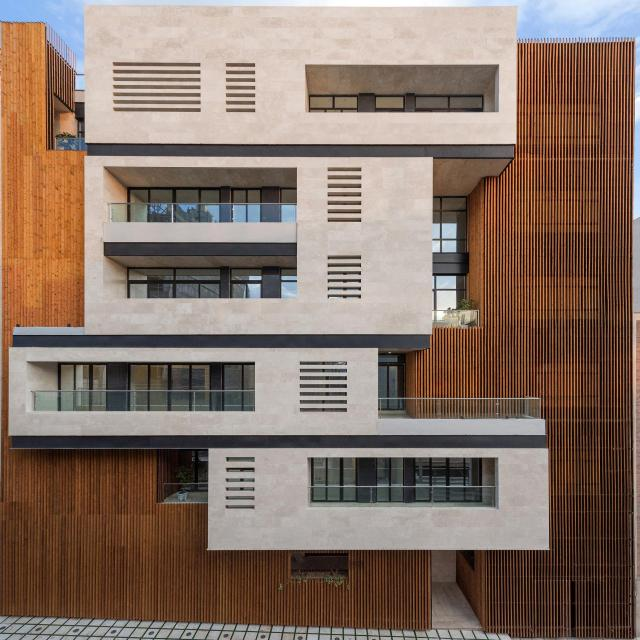railing: (34, 391, 255, 412), (110, 202, 297, 224), (310, 487, 495, 507), (379, 397, 542, 417), (431, 308, 481, 329), (162, 482, 210, 503)
window: (57, 364, 255, 411), (310, 458, 482, 502), (128, 186, 293, 223), (127, 267, 297, 298), (308, 93, 481, 113), (433, 199, 466, 253), (380, 354, 406, 409), (177, 451, 209, 490), (291, 551, 350, 572), (433, 274, 465, 310), (54, 137, 86, 151)
